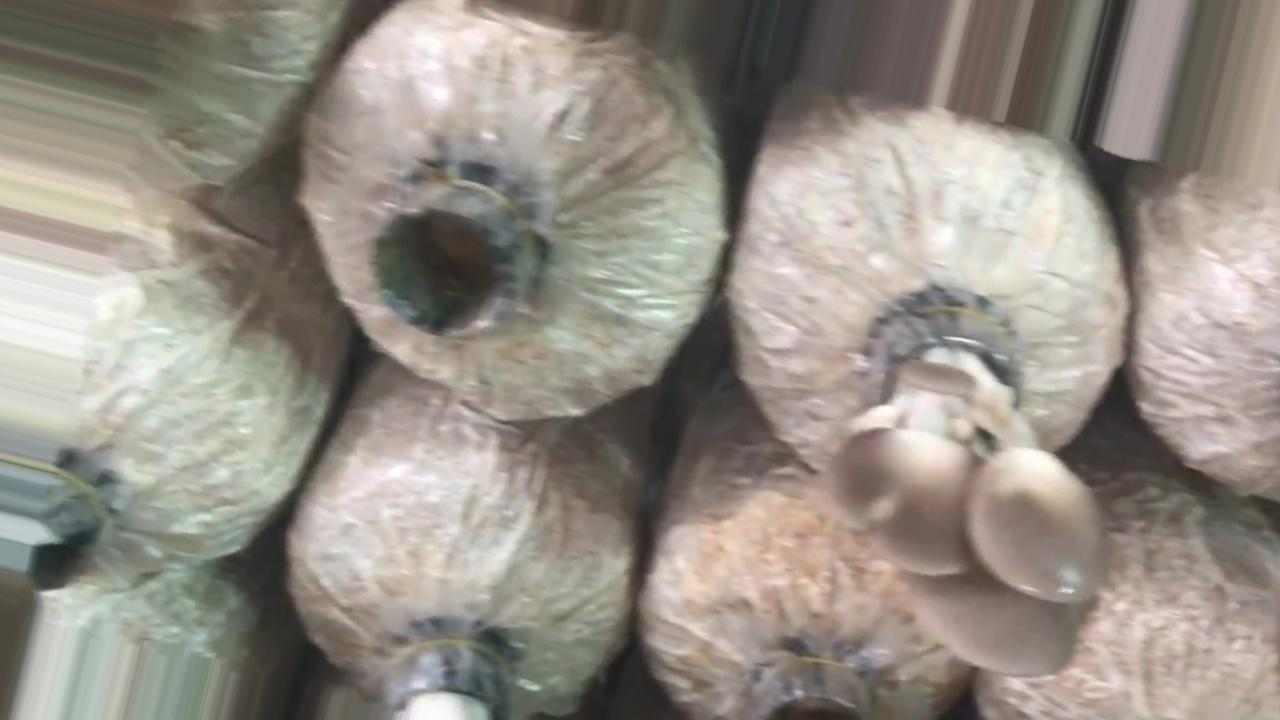nam: (827, 303, 1118, 682)
